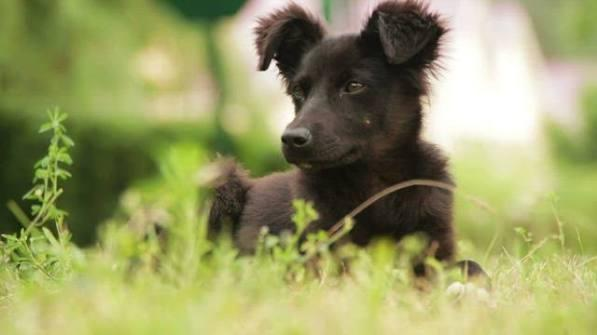puppy-dog: (200, 0, 490, 282)
